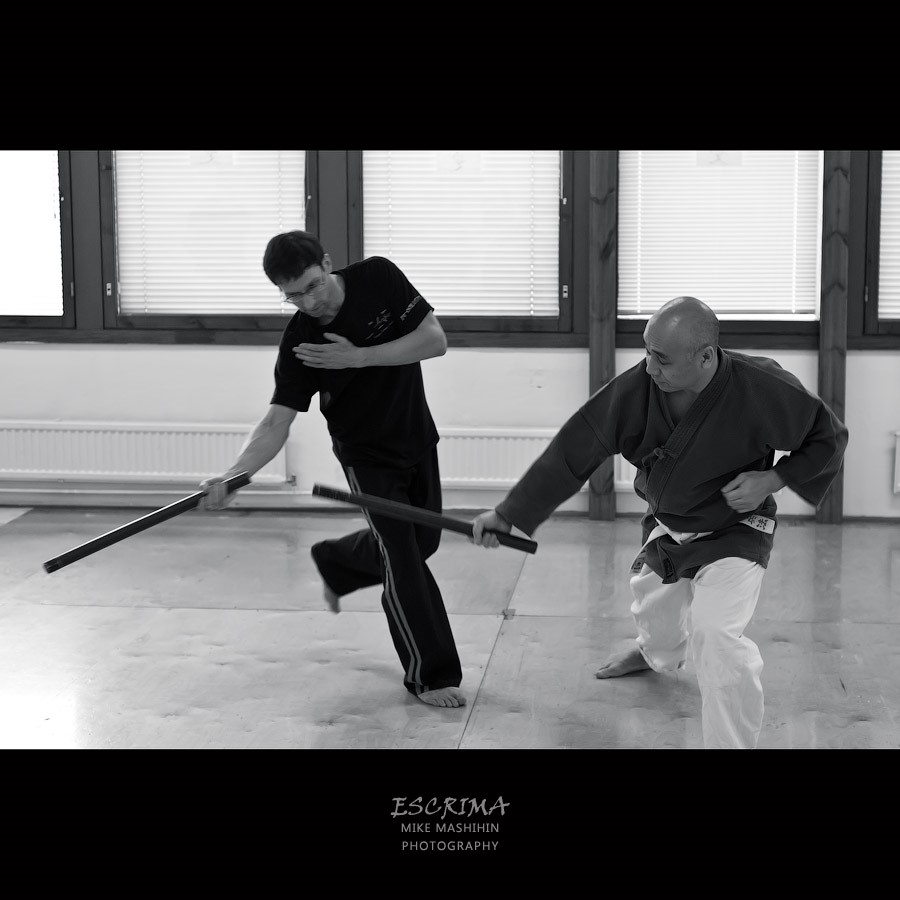baston_e: (53, 472, 240, 574), (320, 483, 530, 555)
baston_v: (236, 467, 257, 486), (309, 478, 323, 501), (528, 538, 544, 558), (37, 559, 55, 575)
